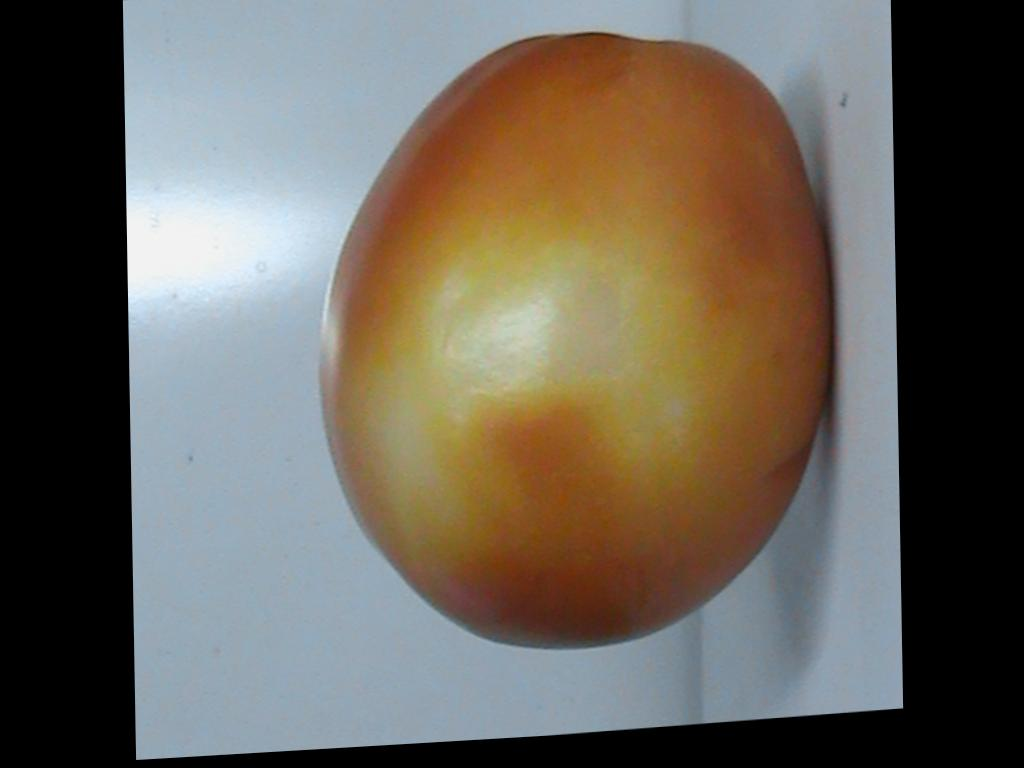bruise_discoloration: (381, 206, 720, 588)
tomato: (321, 33, 826, 648)
